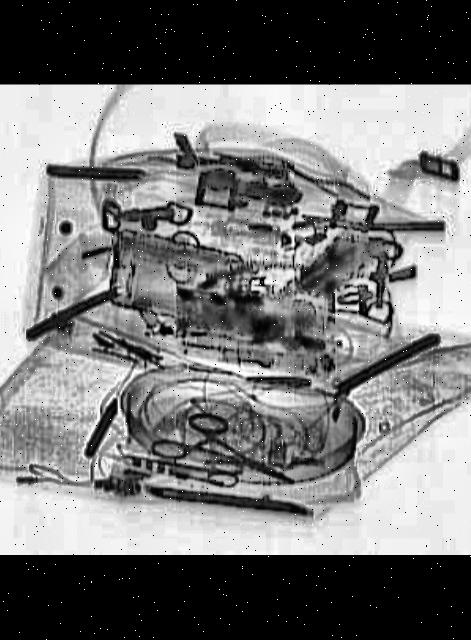Scissors: (147, 396, 314, 510), (119, 436, 248, 486)
